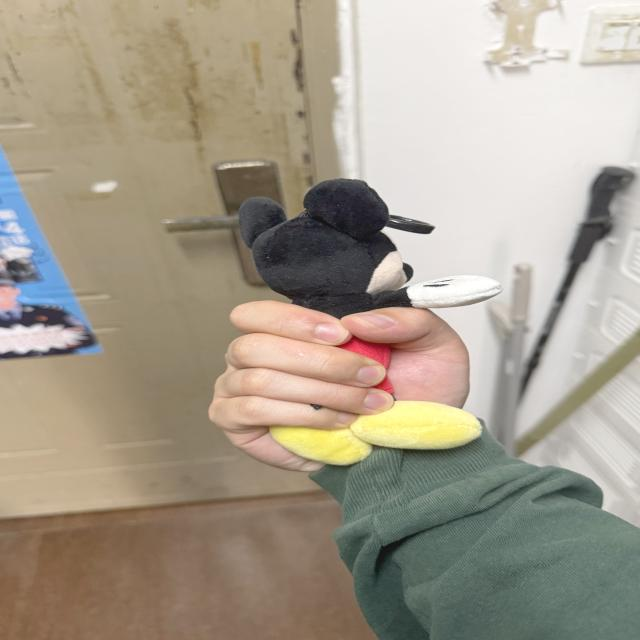mickey: (240, 179, 501, 318)
